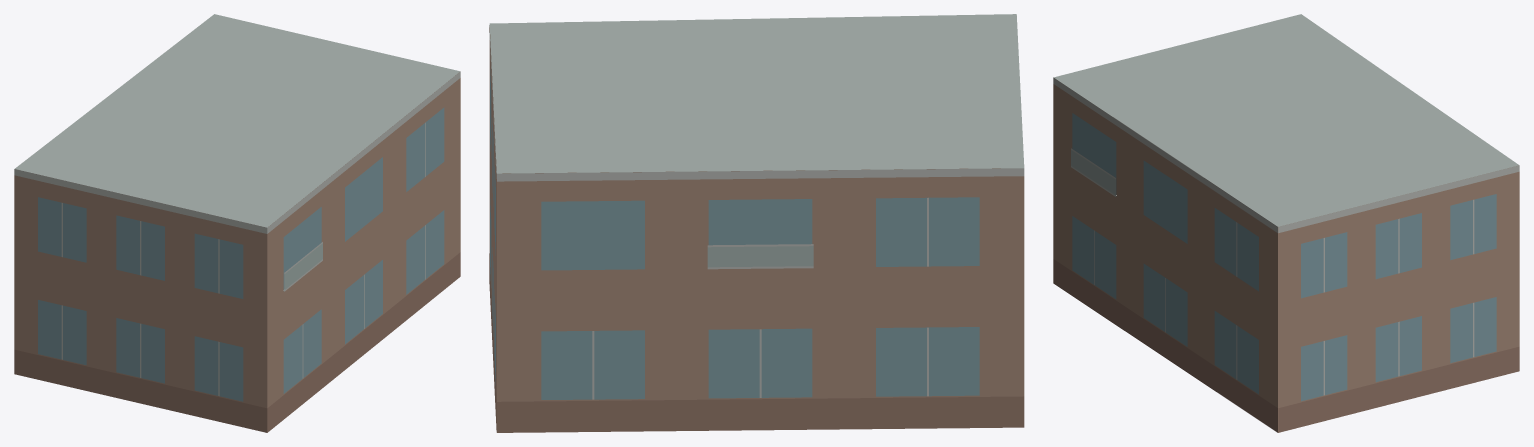
The model's file is survey-upis-32625095.glb.
3 renders of one model, left to right at view 1: azimuth 30°, elevation 25°; view 2: azimuth 150°, elevation 25°; view 3: azimuth 270°, elevation 25°, orthographic. The views are drawn at different scales.
Visible parts, largest first — view 1: survey-upis-32625095.tmp; view 2: survey-upis-32625095.tmp; view 3: survey-upis-32625095.tmp.
Boxes of the visible parts, box(x1,y1,x2,y2) form: survey-upis-32625095.tmp: box(14, 14, 460, 432); survey-upis-32625095.tmp: box(489, 14, 1024, 432); survey-upis-32625095.tmp: box(1053, 14, 1519, 432).
Size of the model in its own units: 17.41 by 7.85 by 16.11.
